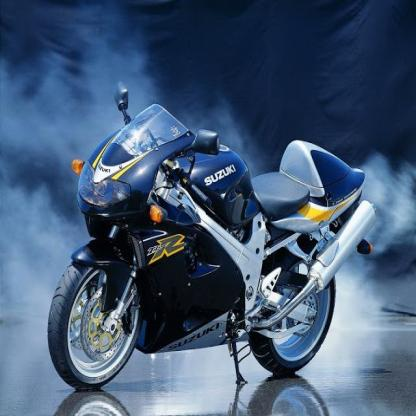bike: (47, 88, 371, 368)
